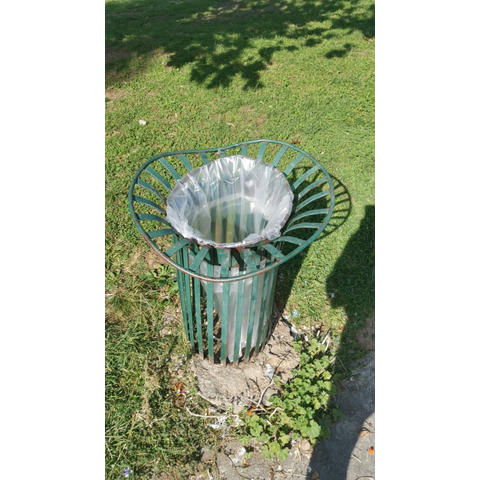poubelle: (125, 137, 342, 365)
